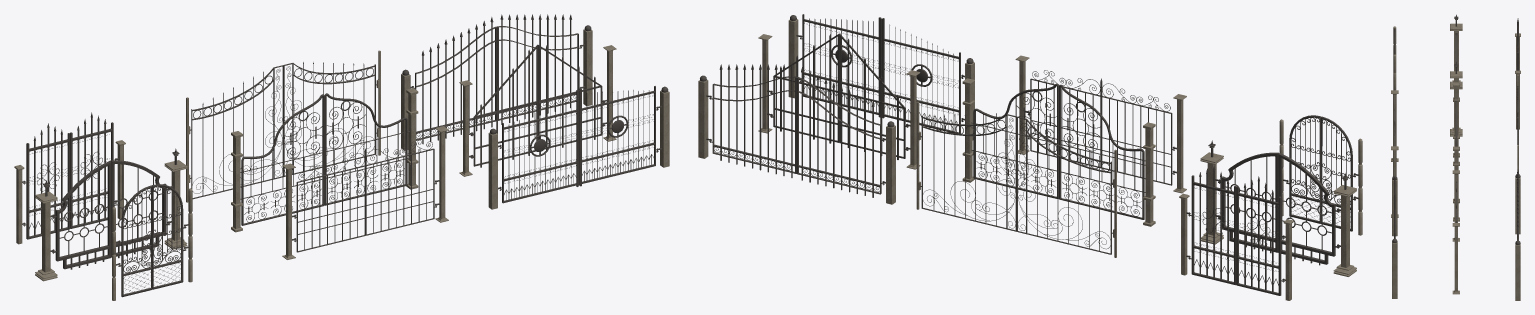
Rendered from gate.glb.
The picture shows the model from 3 angles, left to right: view 1: azimuth 30°, elevation 25°; view 2: azimuth 150°, elevation 25°; view 3: azimuth 270°, elevation 25°; orthographic projection. The views are drawn at different scales.
Parts seen in each view (by area): view 1: Gate_6_1, Gate_6_2, Gate_8_1, Gate_8_2, Gate_1_1, Gate_7_1, Gate_1_2, Gate_7_2, Gate_3_1, Gate_9_1, Gate_9_2, Gate_5_1 (+21 smaller); view 2: Gate_8_1, Gate_8_2, Gate_7_2, Gate_7_1, Gate_1_1, Gate_6_2, Gate_6_1, Gate_1_2, Gate_9_1, Gate_9_2, Gate_3_1, Gate_3_2 (+21 smaller); view 3: Pillar_2_Gate_6, Pillar_2_Gate_8, Pillar_1_Gate_3, Pillar_1_Gate_1, Pillar_2_Gate_2, Pillar_2_Gate_3, Pillar_1_Gate_6, Pillar_1_Gate_5, Pillar_2_Gate_1, Pillar_1_Gate_8, Pillar_1_Gate_2, Pillar_2_Gate_9 (+4 smaller).
Part boxes in pixels (<box>): Gate_6_1: <box>499,89,579,203</box>; Gate_6_2: <box>579,86,658,186</box>; Gate_8_1: <box>414,17,497,144</box>; Gate_8_2: <box>496,14,581,124</box>; Gate_1_1: <box>240,94,324,225</box>; Gate_7_1: <box>190,65,283,199</box>; Gate_1_2: <box>324,93,409,205</box>; Gate_7_2: <box>283,62,377,176</box>; Gate_3_1: <box>52,161,111,269</box>; Gate_9_1: <box>23,123,70,239</box>; Gate_9_2: <box>70,112,116,228</box>; Gate_5_1: <box>294,149,365,252</box>; Gate_8_1: <box>796,67,884,197</box>; Gate_8_2: <box>709,64,797,177</box>; Gate_7_2: <box>920,113,1016,231</box>; Gate_7_1: <box>1016,116,1112,254</box>; Gate_1_1: <box>1059,84,1145,219</box>; Gate_6_2: <box>800,14,881,117</box>; Gate_6_1: <box>881,18,963,133</box>; Gate_1_2: <box>971,83,1058,198</box>; Gate_9_1: <box>1236,176,1284,295</box>; Gate_9_2: <box>1188,165,1236,285</box>; Gate_3_1: <box>1278,153,1339,265</box>; Gate_3_2: <box>1218,152,1278,253</box>; Pillar_2_Gate_6: <box>1392,238,1397,298</box>; Pillar_2_Gate_8: <box>1515,240,1520,300</box>; Pillar_1_Gate_3: <box>1450,14,1462,89</box>; Pillar_1_Gate_1: <box>1453,82,1459,157</box>; Pillar_2_Gate_2: <box>1452,223,1459,294</box>; Pillar_2_Gate_3: <box>1450,62,1462,136</box>; Pillar_1_Gate_6: <box>1392,176,1397,236</box>; Pillar_1_Gate_5: <box>1391,90,1398,161</box>; Pillar_2_Gate_1: <box>1453,146,1459,221</box>; Pillar_1_Gate_8: <box>1515,174,1520,234</box>; Pillar_1_Gate_2: <box>1452,170,1459,241</box>; Pillar_2_Gate_9: <box>1515,70,1520,129</box>.
Bounding box in the file's own units: 16.68 × 3.08 × 4.22.
Materials: 1 (1 with a texture image).
